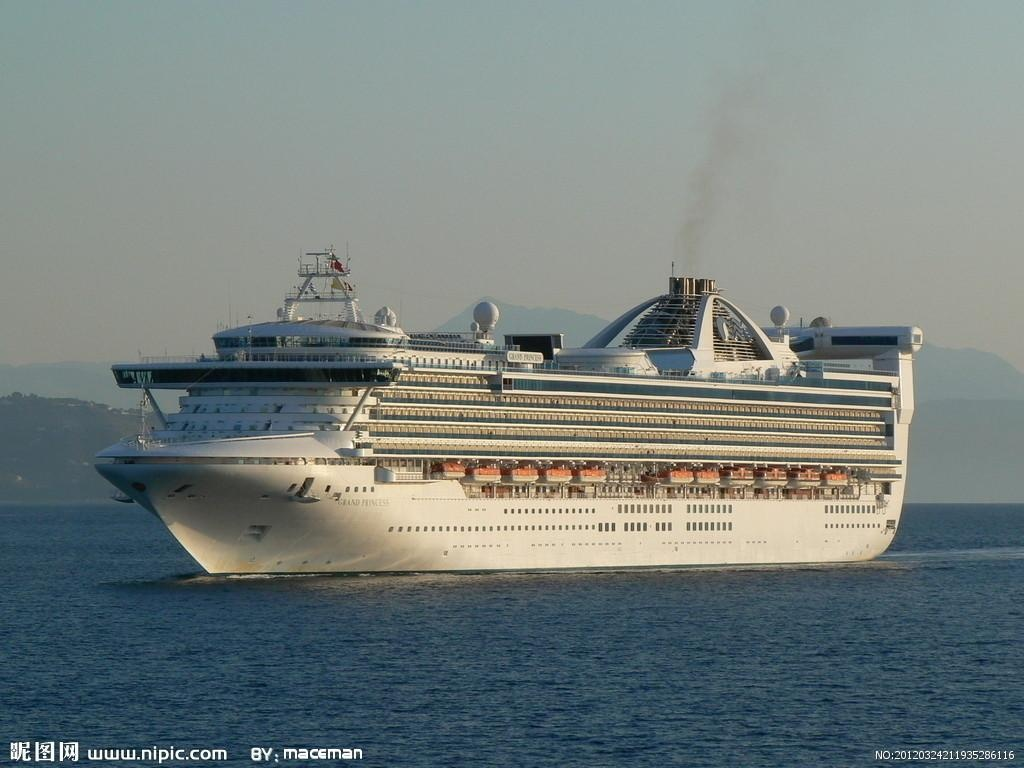youlun: (89, 243, 919, 585)
